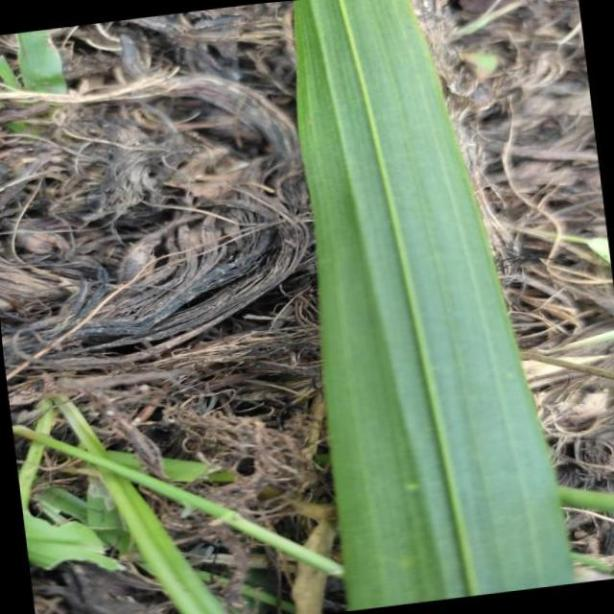Healthy: (291, 0, 576, 598)
